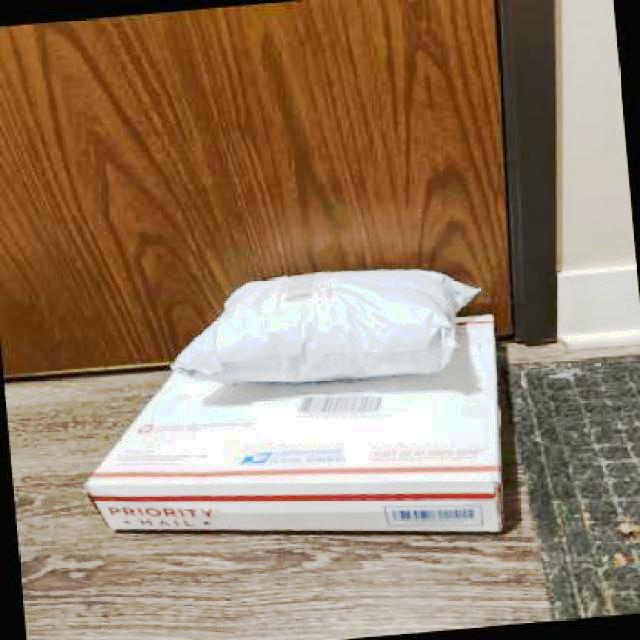Box: (69, 308, 529, 582), (158, 251, 493, 404)
